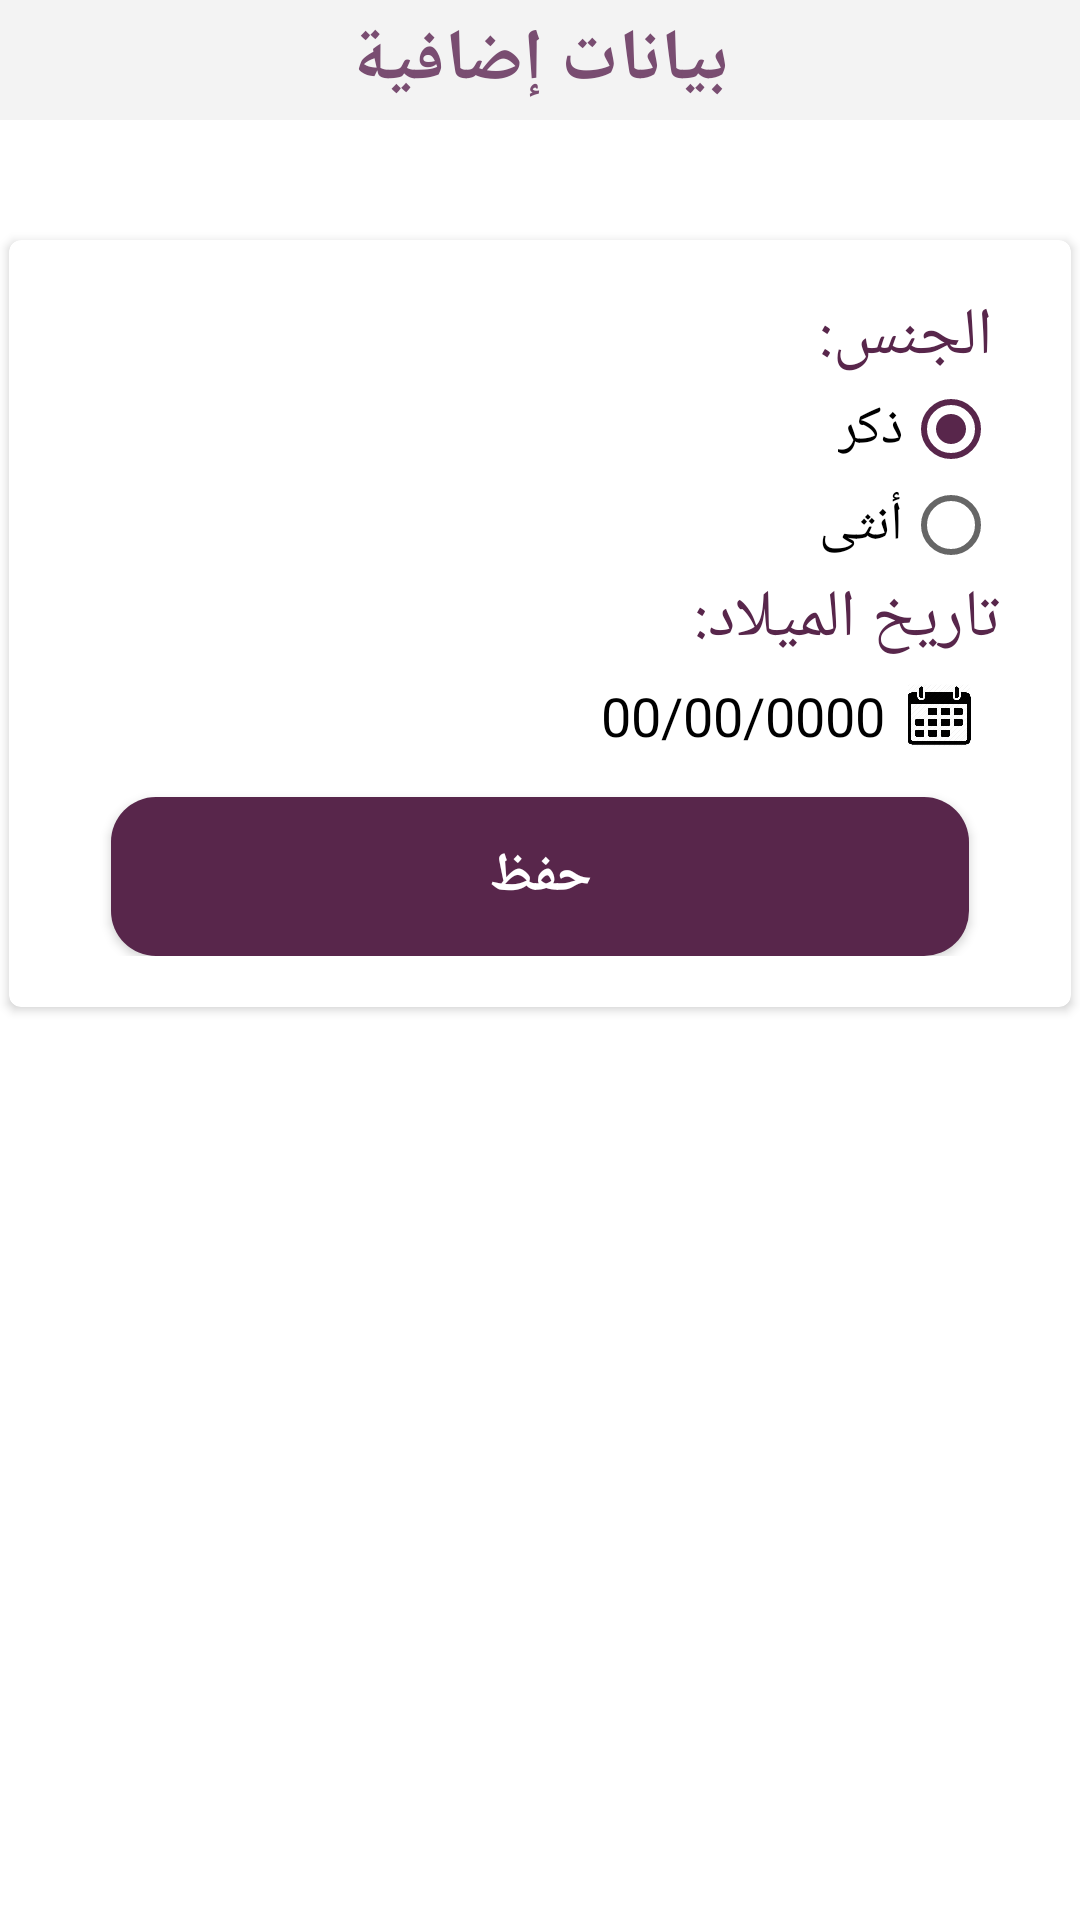

Where to tap for icons on this 1080x1920 app screen, as point (x, y):
calendarr: point (939, 715)
